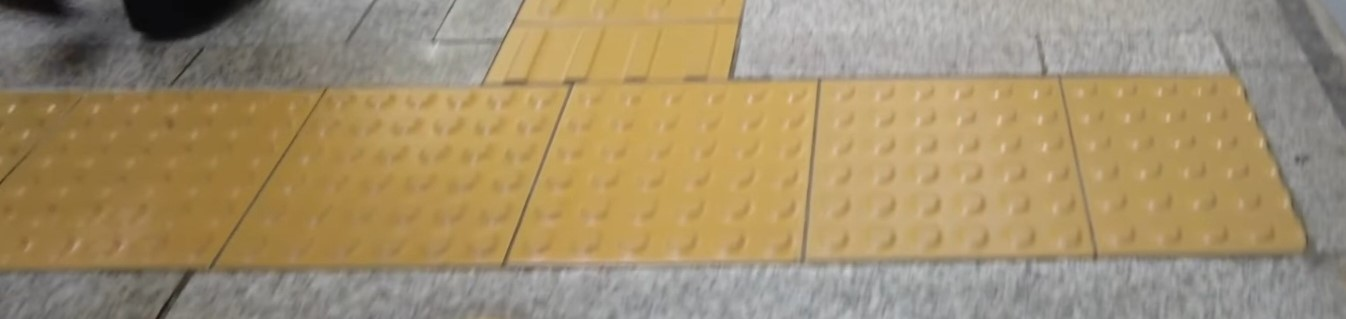warningBlock: (230, 93, 568, 276), (20, 93, 289, 259), (565, 97, 816, 270), (1054, 69, 1283, 251), (821, 91, 1072, 256)
